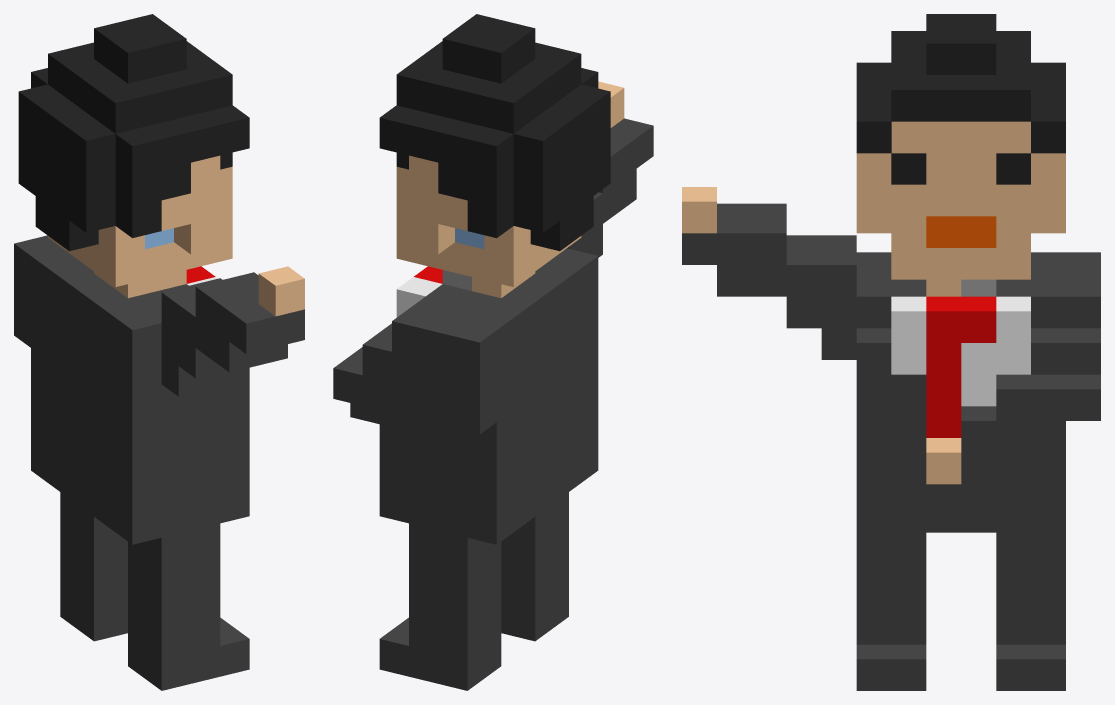
The model's file is stranger.obj.
3 views of the same model, side by side, from view 1: azimuth 30°, elevation 25°; view 2: azimuth 150°, elevation 25°; view 3: azimuth 270°, elevation 25° (orthographic). The views are drawn at different scales.
Visible parts, largest first — view 1: stranger; view 2: stranger; view 3: stranger.
Boxes of the visible parts, x1,y1,x2,y2 form: stranger: [14, 14, 304, 690]; stranger: [333, 14, 653, 690]; stranger: [682, 14, 1100, 690].
Bounding box in the file's own units: 6 × 20 × 12.
Materials: 1 (1 with a texture image).
